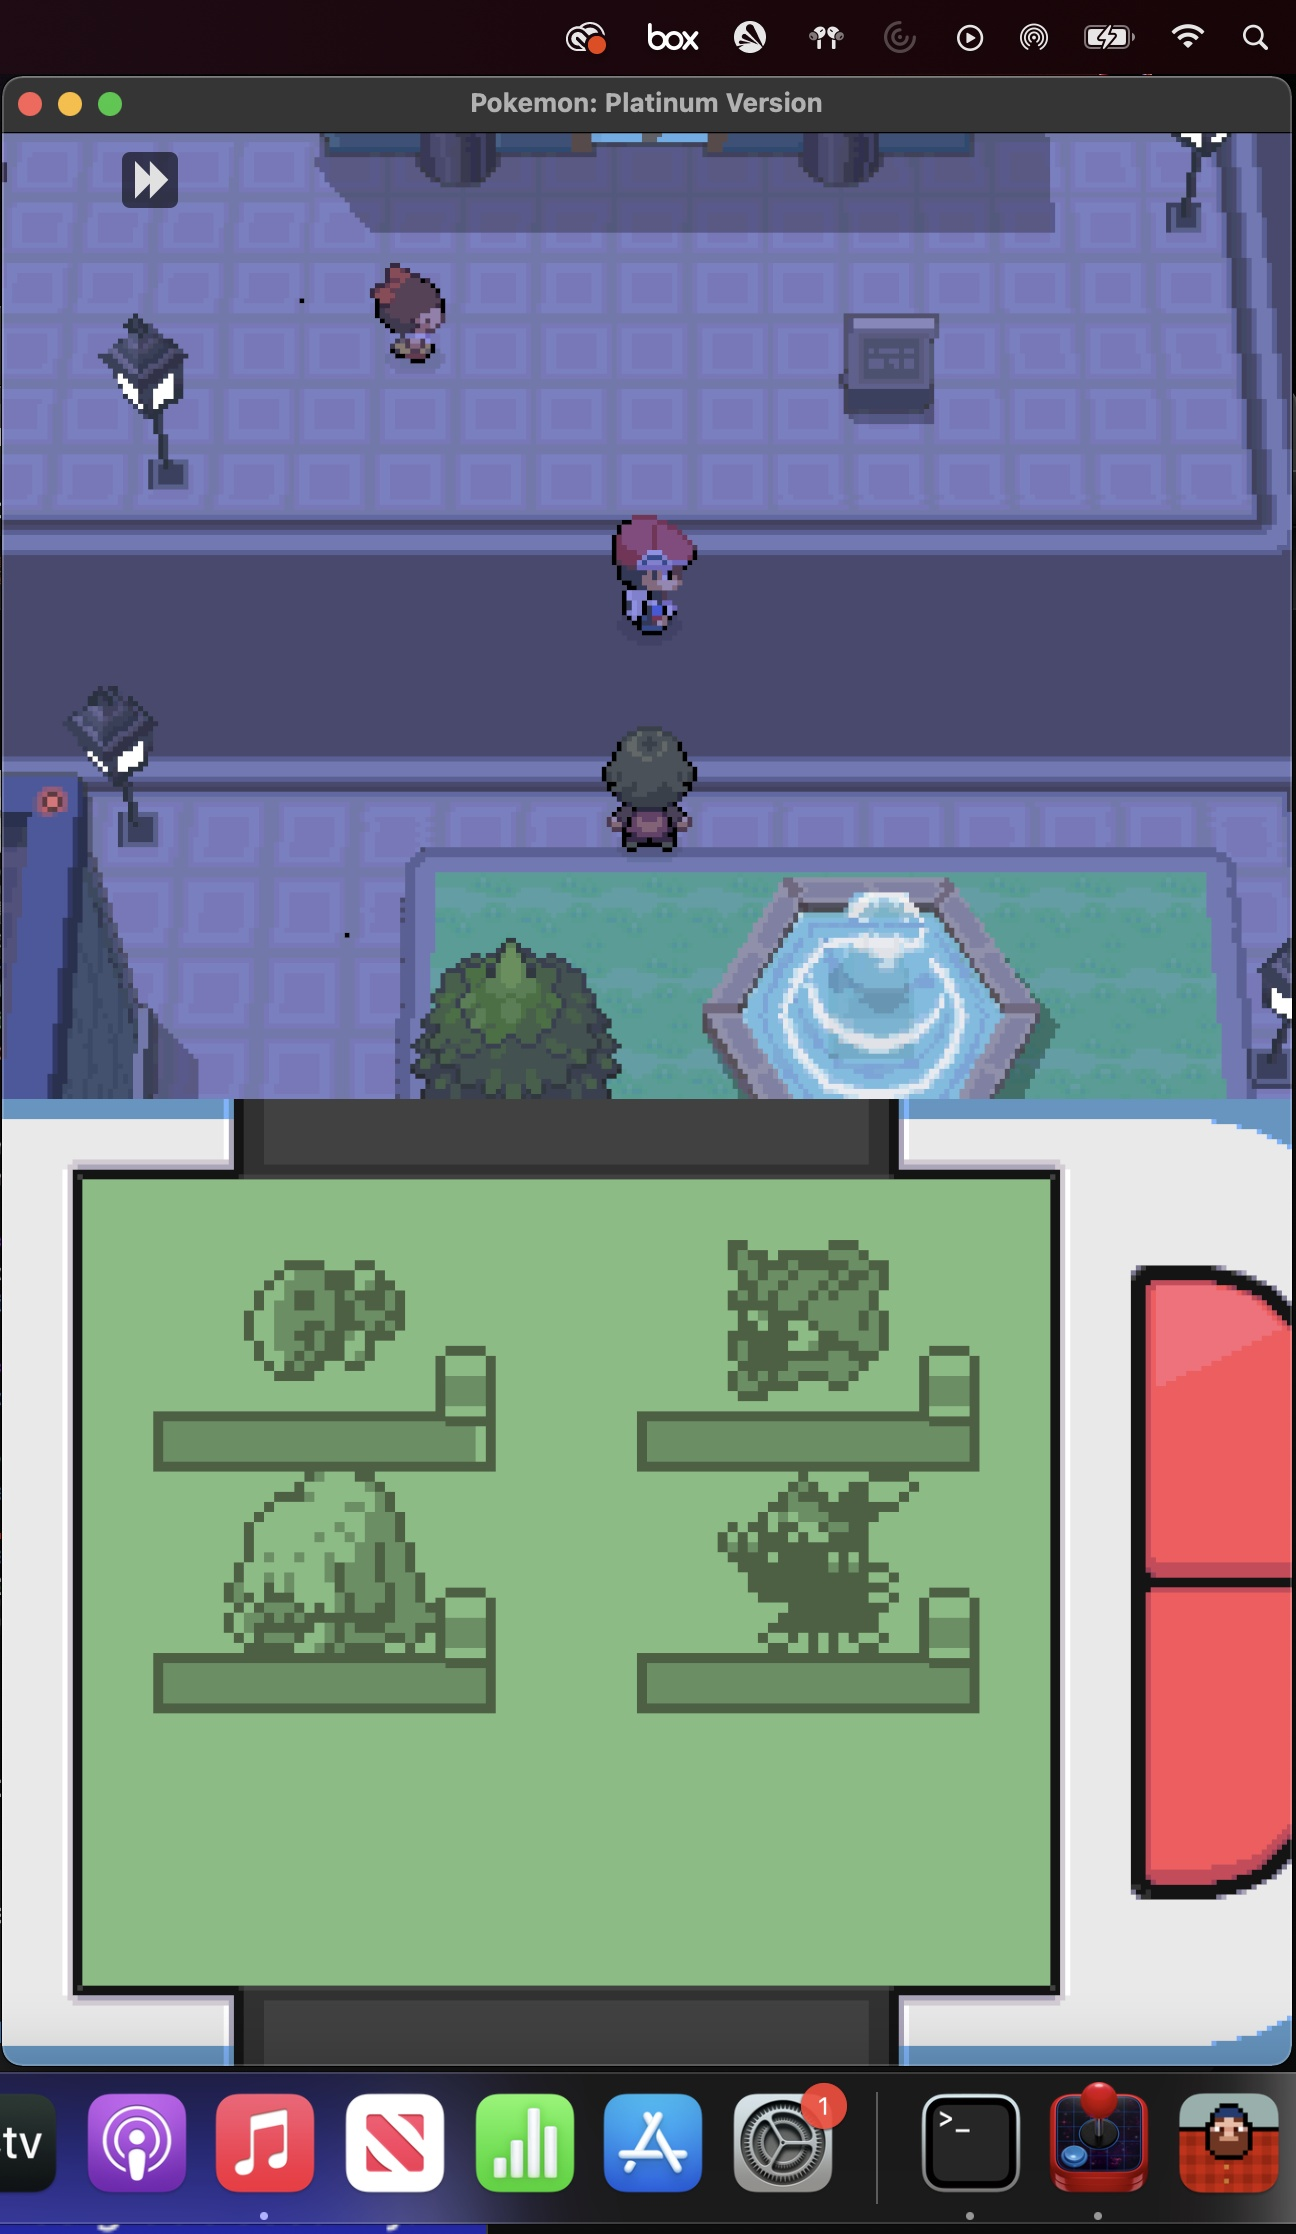player: (603, 506, 698, 646)
